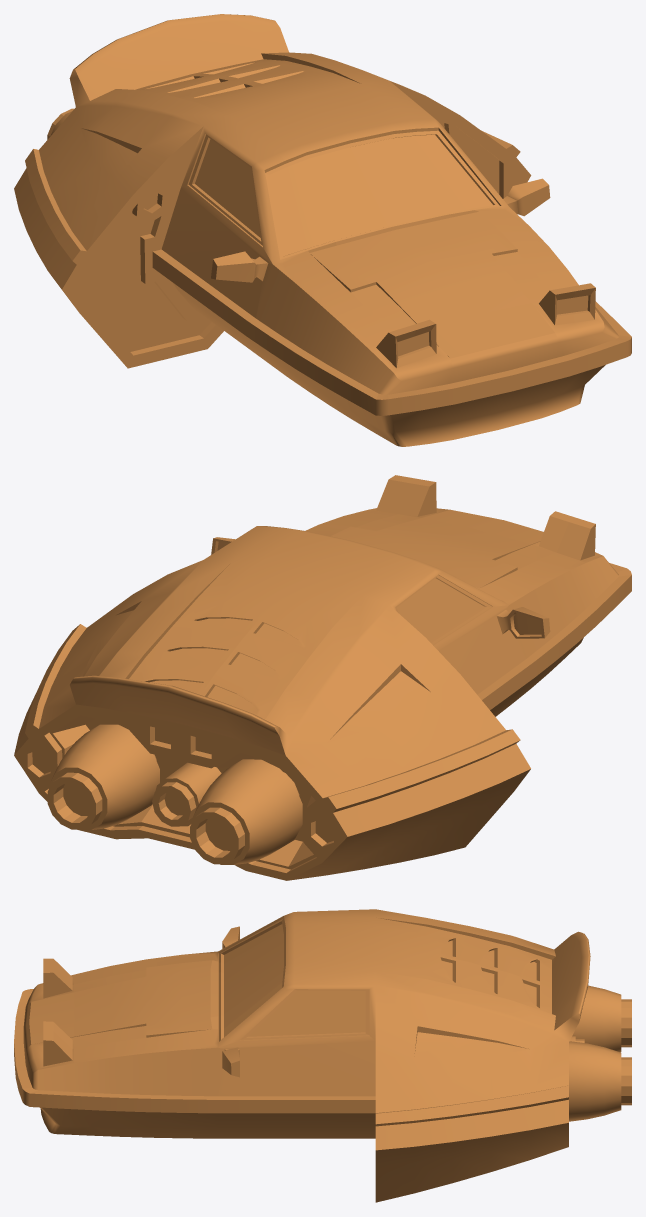
The model's file is Dean_of_Drift (3).fbx.
The picture shows the model from 3 angles, top to bottom: view 1: azimuth 30°, elevation 25°; view 2: azimuth 150°, elevation 25°; view 3: azimuth 270°, elevation 25°; orthographic projection. The views are drawn at different scales.
Parts seen in each view (by area): view 1: LowPoly_mesh; view 2: LowPoly_mesh; view 3: LowPoly_mesh.
Part boxes in pixels (x1=…): LowPoly_mesh: x1=14, y1=14, x2=631, y2=446; LowPoly_mesh: x1=14, y1=475, x2=631, y2=880; LowPoly_mesh: x1=14, y1=909, x2=631, y2=1202.
Size of the model in its own units: 4.23 by 1.98 by 5.77.
